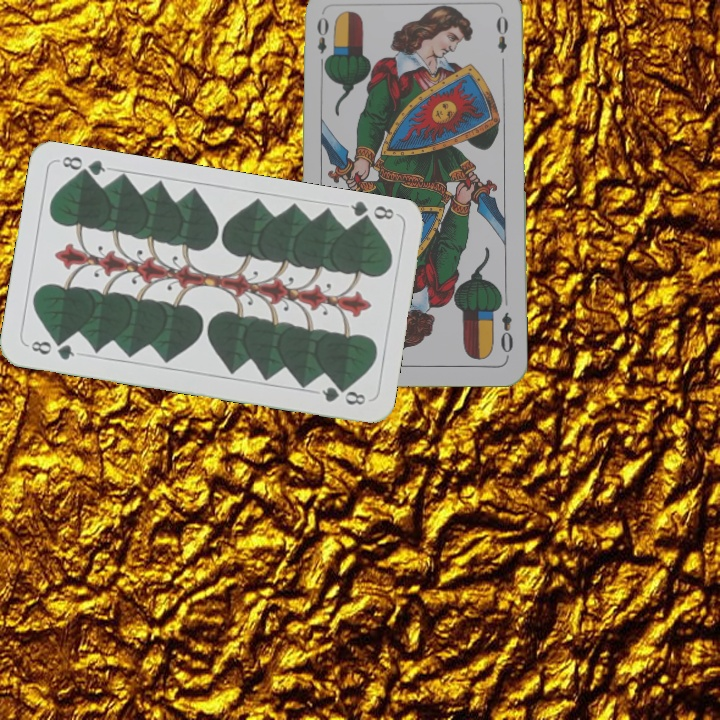EO: (313, 13, 332, 71), (497, 308, 516, 360)
G8: (346, 198, 397, 228), (27, 337, 77, 363)
